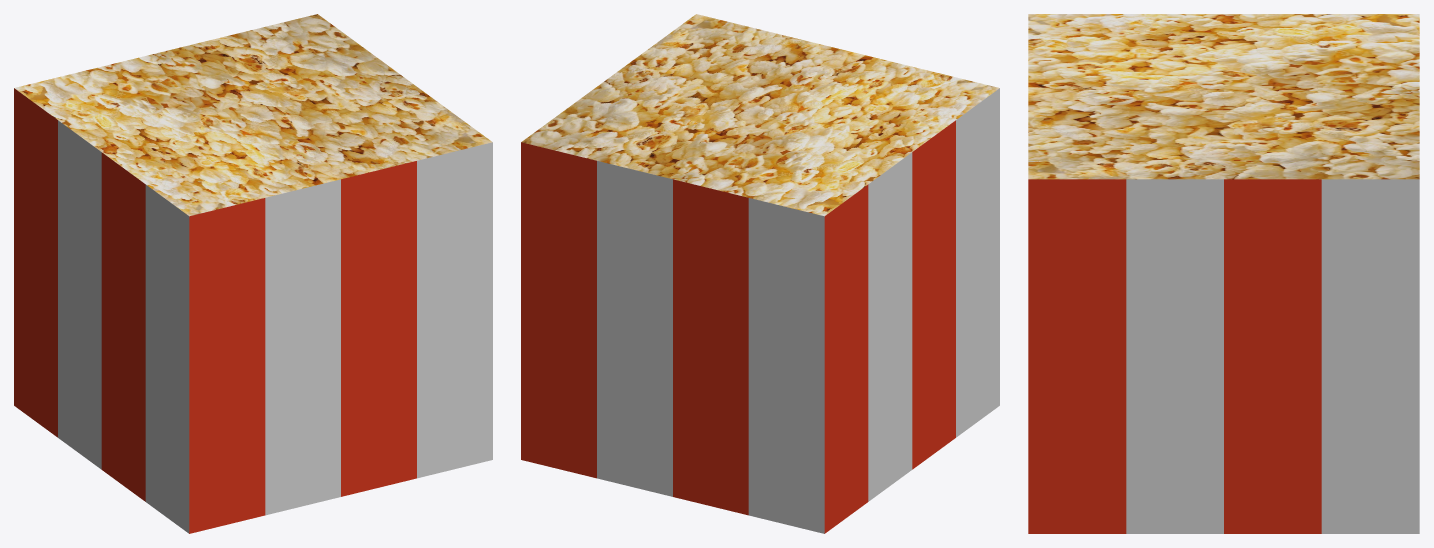
The model's file is Popcornv2.fbx.
3 renders of one model, left to right at view 1: azimuth 30°, elevation 25°; view 2: azimuth 150°, elevation 25°; view 3: azimuth 270°, elevation 25°, orthographic. The views are drawn at different scales.
Visible parts, largest first — view 1: Cube; view 2: Cube; view 3: Cube.
Part boxes in pixels (<box>): Cube: <box>14,14,492,533</box>; Cube: <box>521,14,999,533</box>; Cube: <box>1028,14,1419,533</box>.
Bounding box in the file's own units: 200 × 200 × 200.
